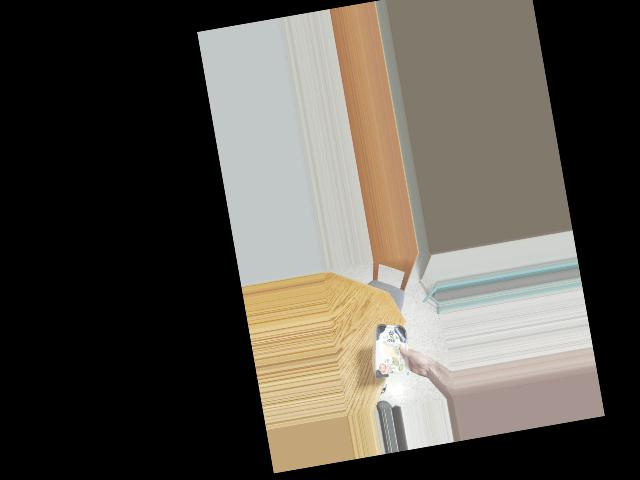cheese: (366, 320, 415, 379)
